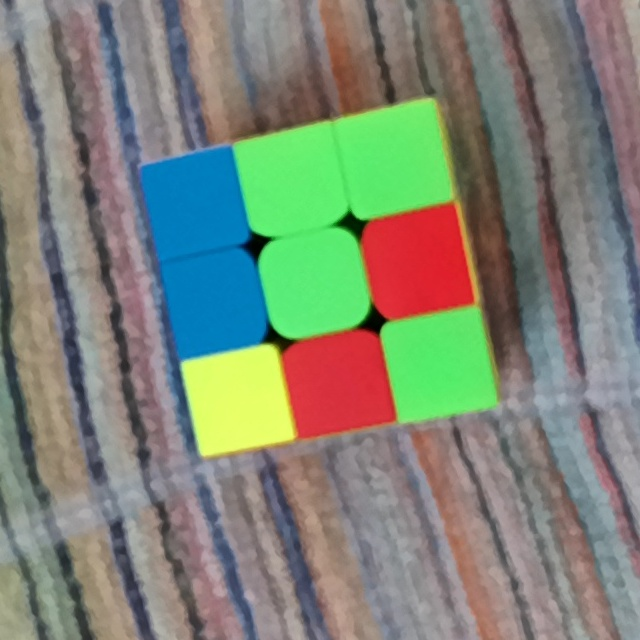tile: (400, 325, 482, 407), (249, 143, 336, 220), (379, 222, 460, 304), (356, 119, 439, 199), (275, 243, 354, 324), (174, 264, 253, 341), (197, 361, 274, 439), (302, 346, 378, 421), (158, 164, 231, 242)
